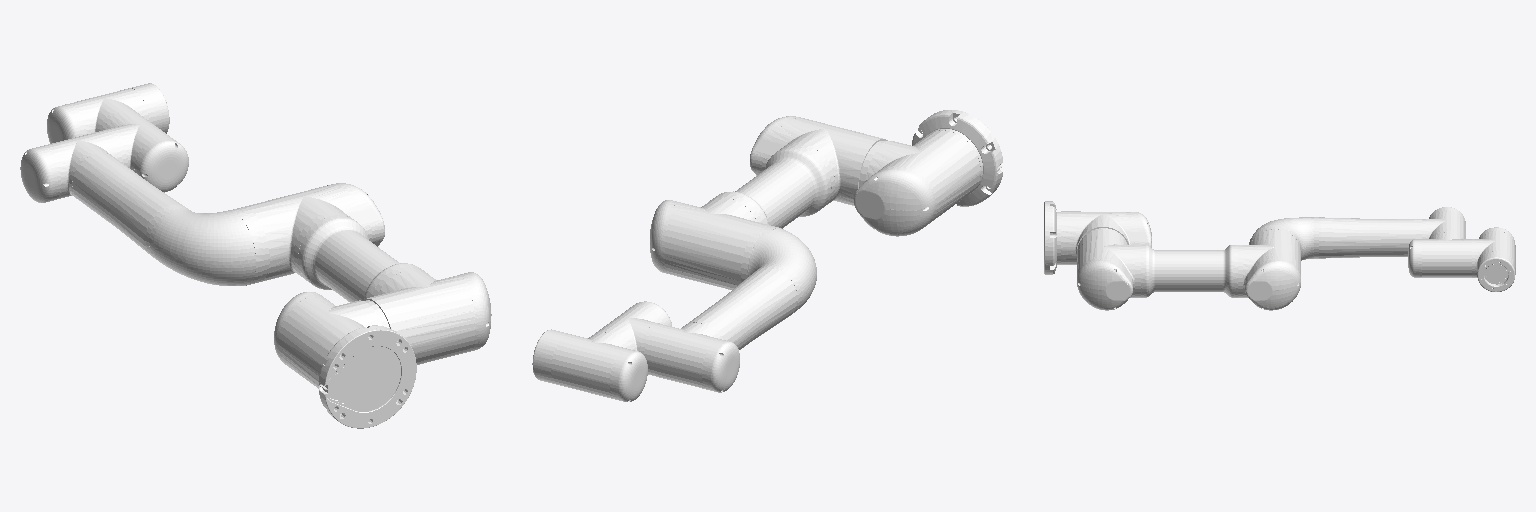
robot.urdf — ur:
<?xml version="1.0" encoding="utf-8"?>
<!-- This URDF was automatically created by SolidWorks to URDF Exporter! Originally created by [author] ([email redacted]) 
     Commit Version: 1.5.1-0-g916b5db  Build Version: 1.5.7152.31018
     For more information, please see http://wiki.ros.org/sw_urdf_exporter -->
<robot
  name="ur">
  
  <link name="dummy">
   </link>
  <joint name="dummy_joint" type="fixed">
     <parent link="dummy"/>
     <child link="base_link"/>
   </joint>

  
  <link
    name="base_link">
    <inertial>
      <origin
        xyz="0.000458548832566613 -0.0678904438408496 -5.19680711840036E-08"
        rpy="0 0 0" />
      <mass
        value="0.477314730201067" />
      <inertia
        ixx="0.000621311133084801"
        ixy="2.57990408107439E-06"
        ixz="2.77703495760393E-09"
        iyy="0.00114808947274978"
        iyz="-6.28933766053637E-10"
        izz="0.000608190756480646" />
    </inertial>
    <visual>
      <origin
        xyz="0 0 0"
        rpy="0 0 0" />
      <geometry>
        <mesh
          filename="package://ur/meshes/base_link.STL" />
      </geometry>
      <material
        name="">
        <color
          rgba="1 1 1 1" />
      </material>
    </visual>
    <collision>
      <origin
        xyz="0 0 0"
        rpy="0 0 0" />
      <geometry>
        <mesh
          filename="package://ur/meshes/base_link.STL" />
      </geometry>
    </collision>
  </link>
  <link
    name="link1">
    <inertial>
      <origin
        xyz="-0.009699 -8.6948E-07 0.049081"
        rpy="0 0 0" />
      <mass
        value="1.88" />
      <inertia
        ixx="0.0040754"
        ixy="2.1403E-08"
        ixz="0.00037392"
        iyy="0.0046156"
        iyz="1.4586E-08"
        izz="0.0033402" />
    </inertial>
    <visual>
      <origin
        xyz="0 0 0"
        rpy="0 0 0" />
      <geometry>
        <mesh
          filename="package://ur/meshes/link1.STL" />
      </geometry>
      <material
        name="">
        <color
          rgba="1 1 1 1" />
      </material>
    </visual>
    <collision>
      <origin
        xyz="0 0 0"
        rpy="0 0 0" />
      <geometry>
        <mesh
          filename="package://ur/meshes/link1.STL" />
      </geometry>
    </collision>
  </link>
  <joint
    name="joint1"
    type="revolute">
    <origin
      xyz="0 -0.0123 0"
      rpy="1.5708 0.011044 -3.1416" />
    <parent
      link="base_link" />
    <child
      link="link1" />
    <axis
      xyz="0 0 -1" />
    <limit
      lower="-3.14"
      upper="3.14"
      effort="100"
      velocity="1" />
  </joint>
  <link
    name="link2">
    <inertial>
      <origin
        xyz="-0.0769101504631208 5.23424749358618E-07 -0.0486394278001739"
        rpy="0 0 0" />
      <mass
        value="3.17870135529002" />
      <inertia
        ixx="0.00550096874258315"
        ixy="-2.19886940304091E-08"
        ixz="-0.000373921053123026"
        iyy="0.0100869466811511"
        iyz="1.04257796702033E-08"
        izz="0.00881150799065698" />
    </inertial>
    <visual>
      <origin
        xyz="0 0 0"
        rpy="0 0 0" />
      <geometry>
        <mesh
          filename="package://ur/meshes/link2.STL" />
      </geometry>
      <material
        name="">
        <color
          rgba="1 1 1 1" />
      </material>
    </visual>
    <collision>
      <origin
        xyz="0 0 0"
        rpy="0 0 0" />
      <geometry>
        <mesh
          filename="package://ur/meshes/link2.STL" />
      </geometry>
    </collision>
  </link>
  <joint
    name="joint2"
    type="revolute">
    <origin
      xyz="-0.1147 0 0.048"
      rpy="0 1.5708 0" />
    <parent
      link="link1" />
    <child
      link="link2" />
    <axis
      xyz="0 0 1" />
    <limit
      lower="-3.14"
      upper="3.14"
      effort="100"
      velocity="1" />
  </joint>
  <link
    name="link3">
    <inertial>
      <origin
        xyz="0.0554516037568046 -0.000608163703361997 -0.0276573229305345"
        rpy="0 0 0" />
      <mass
        value="3.66334331355082" />
      <inertia
        ixx="0.00582129068181095"
        ixy="1.40184460525755E-05"
        ixz="0.000625116669941473"
        iyy="0.0107575747578159"
        iyz="-3.05037026648186E-05"
        izz="0.0093585793851098" />
    </inertial>
    <visual>
      <origin
        xyz="0 0 0"
        rpy="0 0 0" />
      <geometry>
        <mesh
          filename="package://ur/meshes/link3.STL" />
      </geometry>
      <material
        name="">
        <color
          rgba="1 1 1 1" />
      </material>
    </visual>
    <collision>
      <origin
        xyz="0 0 0"
        rpy="0 0 0" />
      <geometry>
        <mesh
          filename="package://ur/meshes/link3.STL" />
      </geometry>
    </collision>
  </link>
  <joint
    name="joint3"
    type="revolute">
    <origin
      xyz="-0.3484 0 0"
      rpy="-3.1195 0 3.1416" />
    <parent
      link="link2" />
    <child
      link="link3" />
    <axis
      xyz="0 -0.022085 -0.99976" />
    <limit
      lower="-3.14"
      upper="3.14"
      effort="100"
      velocity="1" />
  </joint>
  <link
    name="link4">
    <inertial>
      <origin
        xyz="-0.0290613873403182 0.358602724252527 -0.000279408586013892"
        rpy="0 0 0" />
      <mass
        value="0.695124301767255" />
      <inertia
        ixx="0.000628541604497291"
        ixy="2.22166806541769E-11"
        ixz="1.00508113256505E-10"
        iyy="0.000708151336379771"
        iyz="4.65943607252996E-06"
        izz="0.000790374036045493" />
    </inertial>
    <visual>
      <origin
        xyz="0 0 0"
        rpy="0 0 0" />
      <geometry>
        <mesh
          filename="package://ur/meshes/link4.STL" />
      </geometry>
      <material
        name="">
        <color
          rgba="1 1 1 1" />
      </material>
    </visual>
    <collision>
      <origin
        xyz="0 0 0"
        rpy="0 0 0" />
      <geometry>
        <mesh
          filename="package://ur/meshes/link4.STL" />
      </geometry>
    </collision>
  </link>
  <joint
    name="joint4"
    type="revolute">
    <origin
      xyz="0.70259 -0.023362 -0.15462"
      rpy="-3.0852 1.5487 -1.5708" />
    <parent
      link="link3" />
    <child
      link="link4" />
    <axis
      xyz="1 0 0" />
    <limit
      lower="-3.14"
      upper="3.14"
      effort="100"
      velocity="1" />
  </joint>
  <link
    name="link5">
    <inertial>
      <origin
        xyz="-0.0290613929249994 0.355381387320775 0.0479590620590369"
        rpy="0 0 0" />
      <mass
        value="0.695124505609515" />
      <inertia
        ixx="0.000628541598809497"
        ixy="6.7609271977759E-12"
        ixz="9.89873704333766E-11"
        iyy="0.000708396904104552"
        iyz="-6.46849835499732E-06"
        izz="0.000790128474844221" />
    </inertial>
    <visual>
      <origin
        xyz="0 0 0"
        rpy="0 0 0" />
      <geometry>
        <mesh
          filename="package://ur/meshes/link5.STL" />
      </geometry>
      <material
        name="">
        <color
          rgba="1 1 1 1" />
      </material>
    </visual>
    <collision>
      <origin
        xyz="0 0 0"
        rpy="0 0 0" />
      <geometry>
        <mesh
          filename="package://ur/meshes/link5.STL" />
      </geometry>
    </collision>
  </link>
  <joint
    name="joint5"
    type="revolute">
    <origin
      xyz="-0.49369 0.39481 0.017648"
      rpy="3.0631 0.056416 1.5708" />
    <parent
      link="link4" />
    <child
      link="link5" />
    <axis
      xyz="1 0 0" />
    <limit
      lower="-3.14"
      upper="3.14"
      effort="100"
      velocity="1" />
  </joint>
  <link
    name="link6">
    <inertial>
      <origin
        xyz="-0.0414377504703456 0.35157394167873 0.00360011952863271"
        rpy="0 0 0" />
      <mass
        value="0.829291954364681" />
      <inertia
        ixx="0.000735893174496218"
        ixy="-6.34488280565783E-11"
        ixz="-5.86890531044576E-11"
        iyy="0.000835041668473411"
        iyz="3.58330694881933E-05"
        izz="0.00079366542714852" />
    </inertial>
    <visual>
      <origin
        xyz="0 0 0"
        rpy="0 0 0" />
      <geometry>
        <mesh
          filename="package://ur/meshes/link6.STL" />
      </geometry>
      <material
        name="">
        <color
          rgba="1 1 1 1" />
      </material>
    </visual>
    <collision>
      <origin
        xyz="0 0 0"
        rpy="0 0 0" />
      <geometry>
        <mesh
          filename="package://ur/meshes/link6.STL" />
      </geometry>
    </collision>
  </link>
  <joint
    name="joint6"
    type="revolute">
    <origin
      xyz="0.036226 0.41443 -0.25461"
      rpy="1.0472 -0.078504 1.5708" />
    <parent
      link="link5" />
    <child
      link="link6" />
    <axis
      xyz="1 0 0" />
    <limit
      lower="-3.14"
      upper="3.14"
      effort="100"
      velocity="1" />
  </joint>
</robot>

--- Render facts (derived) ---
3 views of the same robot in one strip: view 1: azimuth 30°, elevation 25°; view 2: azimuth 150°, elevation 25°; view 3: azimuth 270°, elevation 25° (orthographic).
Model ur with 8 links and 7 joints (6 revolute, 1 fixed), rooted at dummy, posed all joints at 0.
Visible links, largest first — view 1: link3, link2, base_link, link1, link5, link4, link6; view 2: link3, link2, link1, link6, link4, base_link, link5; view 3: link3, link2, link5, link1, link6, base_link, link4.
Link boxes in pixels (bbox=[...]): link3: bbox=[69, 151, 384, 285]; link2: bbox=[294, 212, 491, 364]; base_link: bbox=[319, 325, 416, 428]; link1: bbox=[274, 292, 389, 388]; link5: bbox=[97, 108, 188, 192]; link4: bbox=[20, 129, 127, 202]; link6: bbox=[47, 83, 169, 143]; link3: bbox=[650, 197, 816, 349]; link2: bbox=[710, 116, 887, 228]; link1: bbox=[854, 130, 980, 236]; link6: bbox=[532, 329, 647, 401]; link4: bbox=[639, 322, 739, 392]; base_link: bbox=[912, 110, 1002, 206]; link5: bbox=[595, 301, 671, 350]; link3: bbox=[1243, 217, 1425, 310]; link2: bbox=[1077, 229, 1242, 310]; link5: bbox=[1408, 232, 1474, 277]; link1: bbox=[1061, 211, 1151, 264]; link6: bbox=[1475, 227, 1515, 291]; base_link: bbox=[1044, 201, 1060, 274]; link4: bbox=[1426, 207, 1465, 238].
Bounding box of the posed robot: 0.3395 × 0.9571 × 0.1488 m (x, y, z).
Meshes: 7 distinct files referenced, 7 mesh visuals loaded (7 binary STL).